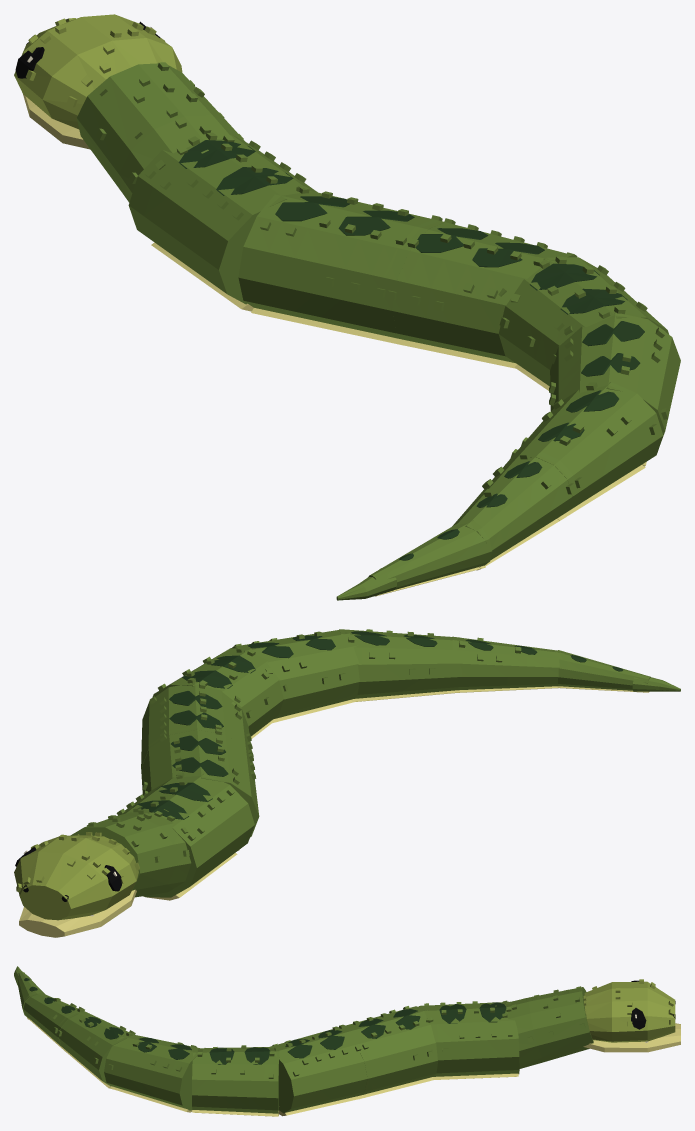
File: Anaconda.fbx
3 views of the same model, one above another, from view 1: azimuth 30°, elevation 25°; view 2: azimuth 150°, elevation 25°; view 3: azimuth 270°, elevation 25° (orthographic). The views are drawn at different scales.
Parts seen in each view (by area): view 1: Import3D_Body1, Import3D_Core, Import3D_Body2, Import3D_Neck, Import3D_Body5, Import3D_Body3, Import3D_Head, Import3D_Body4, Import3D_Tail6, Import3D_Tail7, Import3D_Jaw, Import3D_TailPoint; view 2: Import3D_Head, Import3D_Core, Import3D_Body5, Import3D_Body4, Import3D_Body1, Import3D_Neck, Import3D_Tail6, Import3D_Body3, Import3D_Body2, Import3D_Tail7, Import3D_Jaw, Import3D_TailPoint; view 3: Import3D_Body2, Import3D_Core, Import3D_Body3, Import3D_Body1, Import3D_Body4, Import3D_Neck, Import3D_Head, Import3D_Body5, Import3D_Tail6, Import3D_Jaw, Import3D_Tail7, Import3D_EyeR.
Part boxes in pixels (x1,y1,x2,y2): Import3D_Body1: (238,185,445,343); Import3D_Core: (128,132,317,311); Import3D_Body2: (383,218,577,368); Import3D_Neck: (77,62,245,202); Import3D_Body5: (504,382,663,520); Import3D_Body3: (498,256,668,390); Import3D_Head: (14,14,182,129); Import3D_Body4: (549,312,680,466); Import3D_Tail6: (452,451,579,570); Import3D_Tail7: (368,520,492,596); Import3D_Jaw: (23,94,90,149); Import3D_TailPoint: (336,568,396,600); Import3D_Head: (14,832,139,920); Import3D_Core: (116,773,254,900); Import3D_Body5: (339,629,462,701); Import3D_Body4: (231,630,359,723); Import3D_Body1: (141,725,259,850); Import3D_Neck: (70,808,191,897); Import3D_Tail6: (451,636,564,692); Import3D_Body3: (152,647,288,738); Import3D_Body2: (141,682,253,768); Import3D_Tail7: (555,650,650,692); Import3D_Jaw: (19,889,136,937); Import3D_TailPoint: (632,677,680,691); Import3D_Body2: (268,1026,373,1116); Import3D_Core: (418,1001,519,1079); Import3D_Body3: (192,1045,279,1116); Import3D_Body1: (338,1006,442,1098); Import3D_Body4: (104,1034,205,1112); Import3D_Neck: (495,986,593,1068); Import3D_Head: (583,979,675,1042); Import3D_Body5: (56,1011,135,1088); Import3D_Tail6: (23,992,89,1051); Import3D_Jaw: (583,1023,680,1052); Import3D_Tail7: (17,972,44,1019); Import3D_EyeR: (631,1008,646,1029).
Size of the model in its own units: 178 by 50.48 by 358.
Materials: 1 (1 with a texture image).
